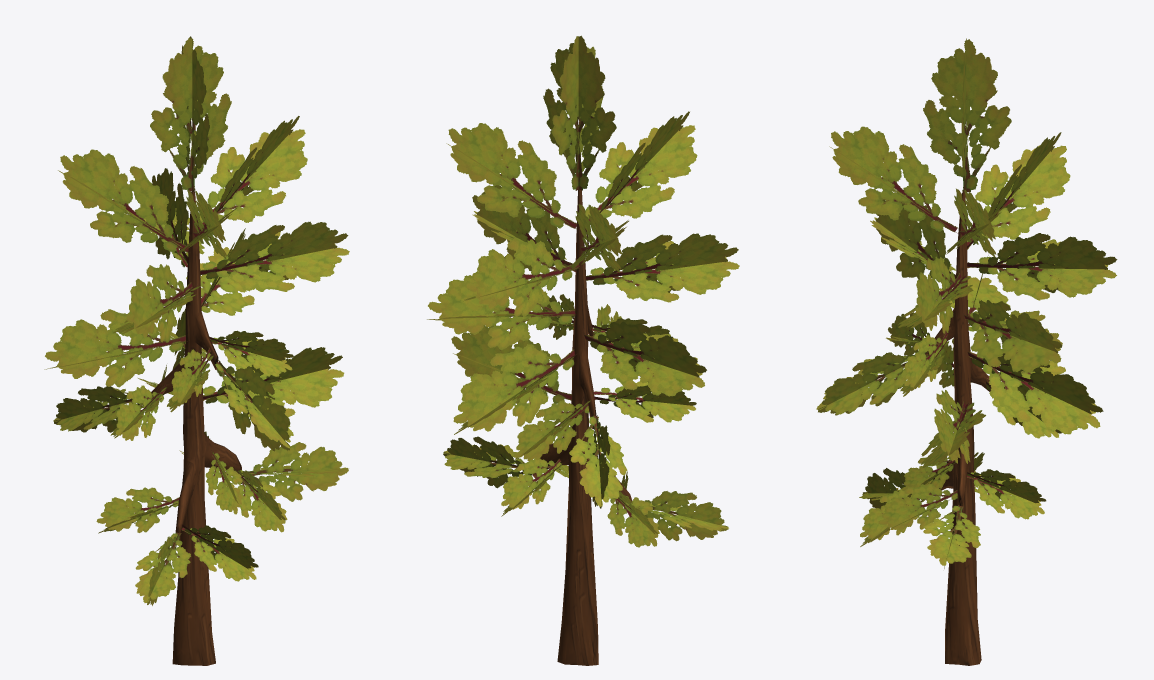
Rendered from tree2_02.fbx.
The picture shows the model from 3 angles, left to right: view 1: azimuth 30°, elevation 25°; view 2: azimuth 150°, elevation 25°; view 3: azimuth 270°, elevation 25°; orthographic projection.
Parts seen in each view (by area): view 1: polySurface3, pPlane12, pPlane3, pPlane106, pPlane97, pPlane102, pPlane103, pPlane9, pPlane104, pPlane11, pPlane131, pPlane118 (+21 smaller); view 2: polySurface3, pPlane96, pPlane128, pPlane99, pPlane100, pPlane108, pPlane3, pPlane104, pPlane105, pPlane107, pPlane106, pPlane1 (+17 smaller); view 3: polySurface3, pPlane1, pPlane98, pPlane13, pPlane129, pPlane100, pPlane101, pPlane109, pPlane104, pPlane128, pPlane114, pPlane8 (+20 smaller).
Boxes of the visible parts, x1,y1,x2,y2 form: polySurface3: (147, 190, 242, 665); pPlane12: (60, 149, 188, 252); pPlane3: (150, 37, 231, 191); pPlane106: (45, 309, 185, 387); pPlane97: (197, 129, 307, 229); pPlane102: (200, 221, 348, 279); pPlane103: (200, 231, 349, 291); pPlane9: (244, 442, 348, 501); pPlane104: (126, 264, 192, 342); pPlane11: (216, 360, 290, 451); pPlane131: (203, 358, 344, 417); pPlane118: (96, 487, 179, 532); polySurface3: (532, 189, 632, 665); pPlane96: (448, 123, 576, 228); pPlane128: (453, 344, 574, 431); pPlane99: (585, 125, 697, 220); pPlane100: (465, 238, 579, 316); pPlane108: (428, 275, 575, 350); pPlane3: (543, 35, 616, 190); pPlane104: (586, 233, 738, 292); pPlane105: (587, 240, 739, 302); pPlane107: (587, 332, 704, 396); pPlane106: (584, 321, 706, 382); pPlane1: (551, 36, 604, 190); polySurface3: (926, 191, 991, 665); pPlane1: (923, 39, 1011, 191); pPlane98: (831, 126, 957, 232); pPlane13: (967, 145, 1070, 249); pPlane129: (969, 352, 1100, 434); pPlane100: (967, 233, 1117, 292); pPlane101: (967, 239, 1116, 300); pPlane109: (965, 310, 1062, 372); pPlane104: (876, 192, 955, 284); pPlane128: (967, 352, 1103, 414); pPlane114: (878, 483, 957, 530); pPlane8: (923, 505, 980, 565).
Size of the model in its own units: 342 by 661 by 341.
